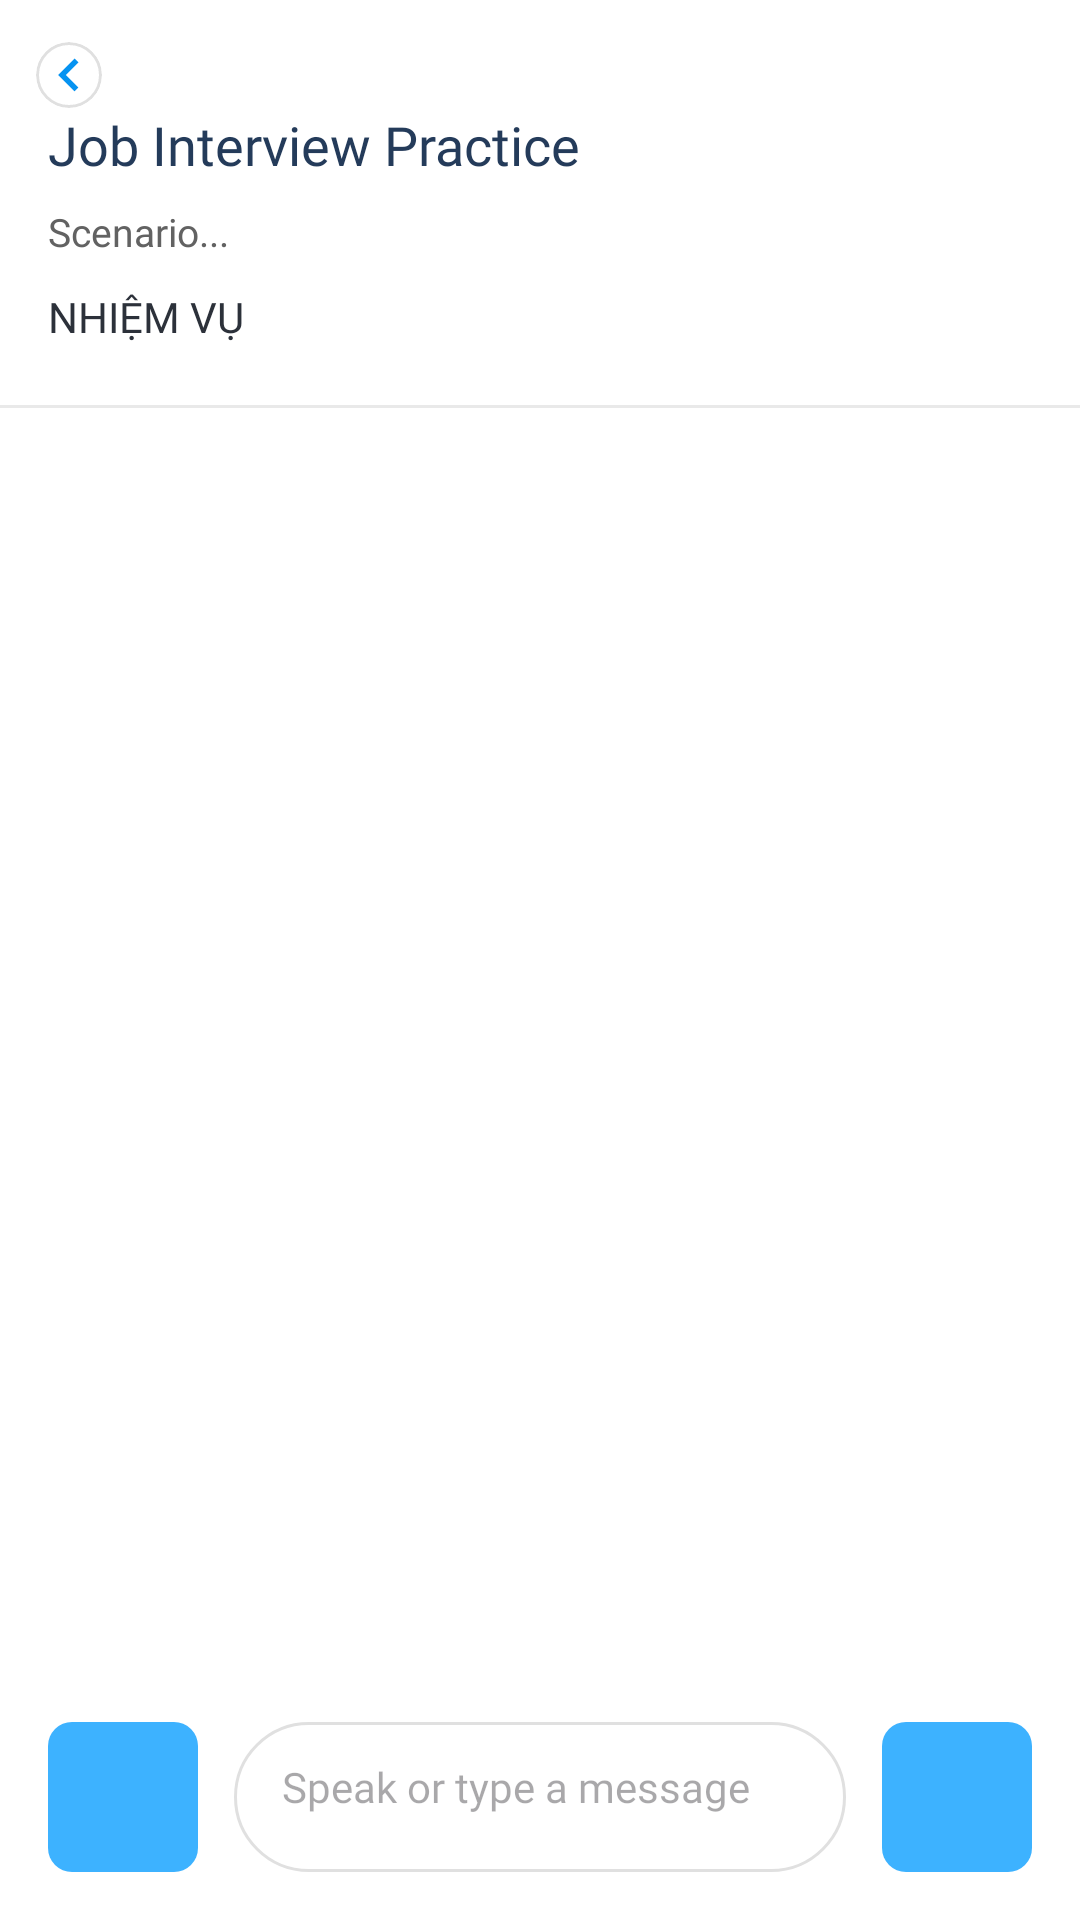

Where icons sit on this 1080x1920 app screen, as (x1, y1, x2, y2):
Back: (36, 42, 102, 108)
